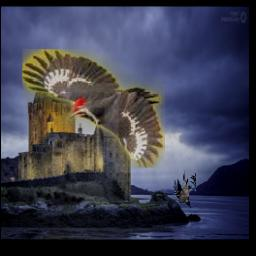Crow: (173, 171, 195, 209)
Woodpecker: (21, 49, 164, 168)
